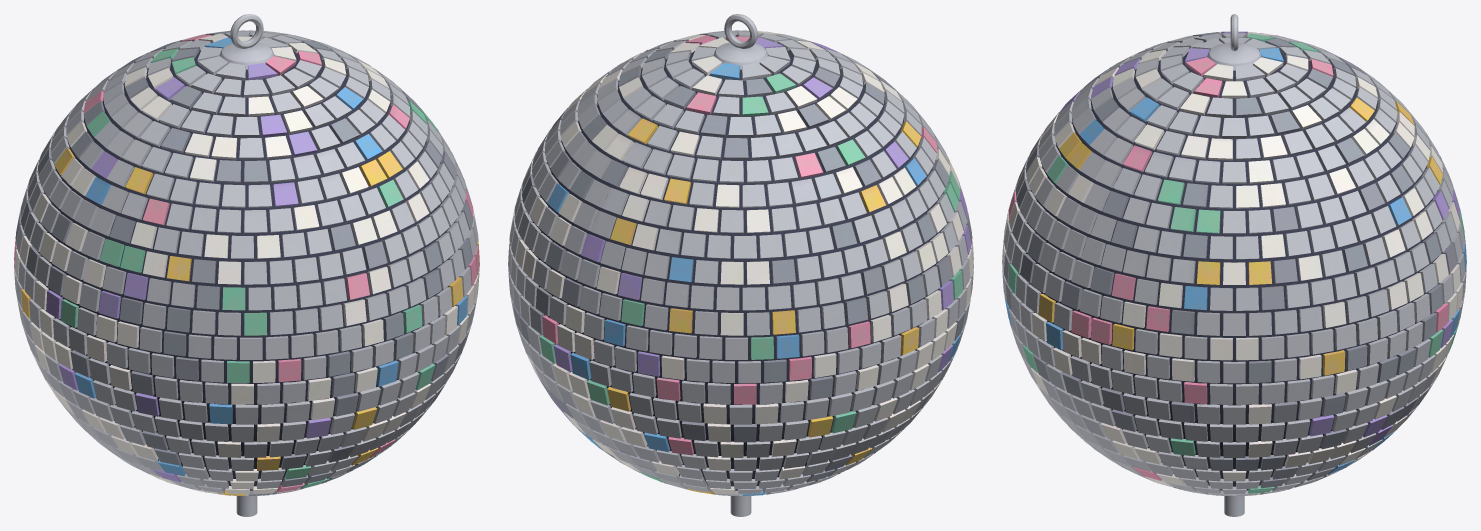
Rendered from disco-ball-globe.glb.
The picture shows the model from 3 angles, left to right: view 1: azimuth 30°, elevation 25°; view 2: azimuth 150°, elevation 25°; view 3: azimuth 270°, elevation 25°; orthographic projection.
Parts seen in each view (by area): view 1: BAND_MirrorBall_Globe; view 2: BAND_MirrorBall_Globe; view 3: BAND_MirrorBall_Globe.
Part boxes in pixels (bbox=[...]): BAND_MirrorBall_Globe: bbox=[14, 14, 479, 516]; BAND_MirrorBall_Globe: bbox=[508, 14, 973, 516]; BAND_MirrorBall_Globe: bbox=[1002, 14, 1466, 516].
Size of the model in its own units: 0.2029 by 0.2393 by 0.2029.
Materials: 1 (1 with a texture image).
